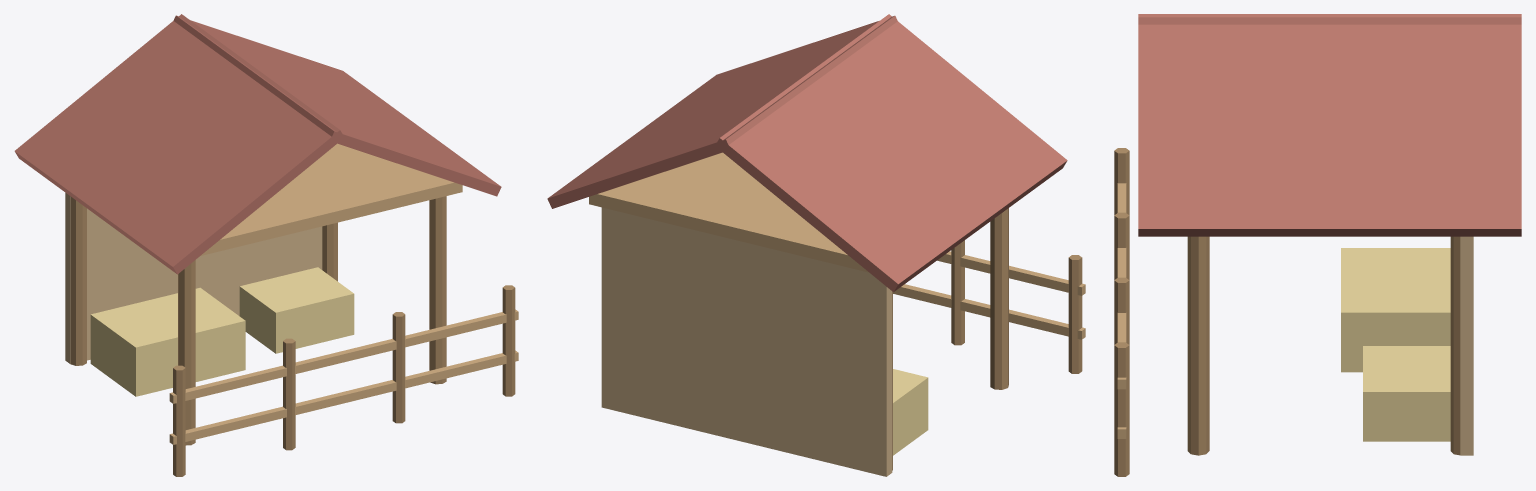
File: stable.glb
The picture shows the model from 3 angles, left to right: view 1: azimuth 30°, elevation 25°; view 2: azimuth 150°, elevation 25°; view 3: azimuth 270°, elevation 25°; orthographic projection. The views are drawn at different scales.
Visible parts, largest first — view 1: stable; view 2: stable; view 3: stable.
Part boxes in pixels (box(x1,y1,x2,y2)): stable: box(14, 14, 518, 476); stable: box(547, 14, 1085, 476); stable: box(1114, 14, 1521, 476).
Size of the model in its own units: 4.4 by 3.64 by 3.72.
